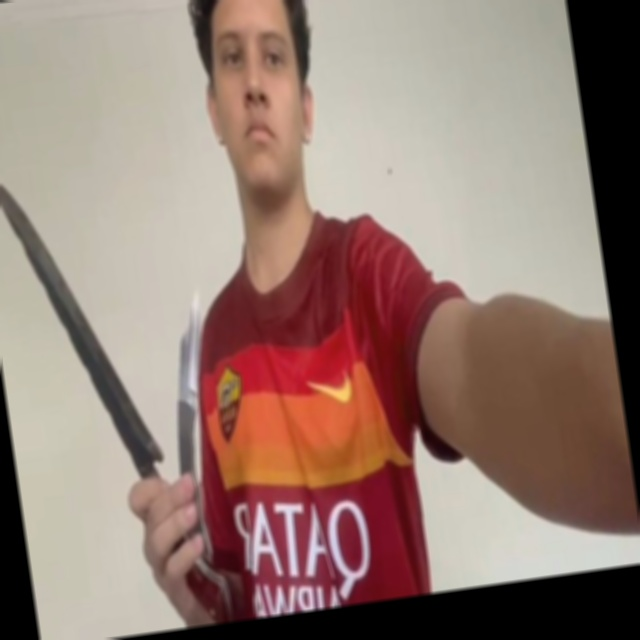Sharp-Object: (0, 156, 162, 483), (163, 287, 216, 411)
